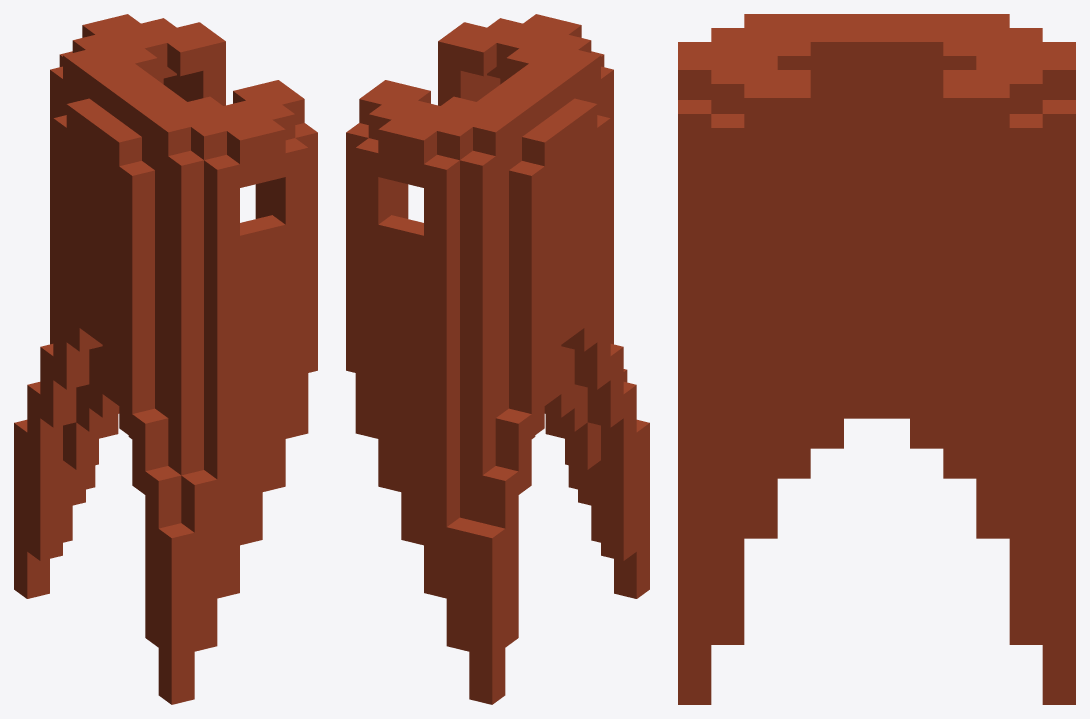
File: cowboy_trenchcoat.obj
3 views of the same model, side by side, from view 1: azimuth 30°, elevation 25°; view 2: azimuth 150°, elevation 25°; view 3: azimuth 270°, elevation 25° (orthographic). The views are drawn at different scales.
Size of the model in its own units: 7 by 23 by 12.
1 material, 1 textured.
